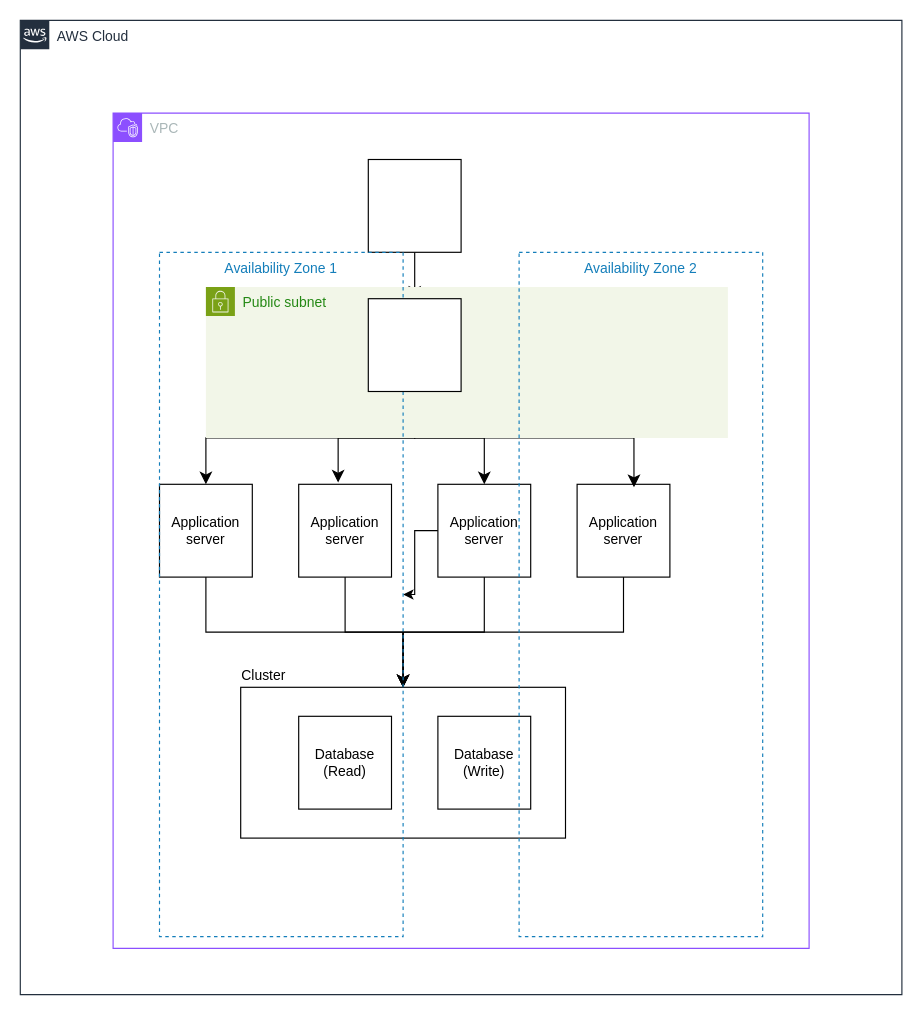
Image size: 922x1015. Some labels were removed from this diagram. Each missing label, with the centre of its shape:
Internet Gateway: the point at 414,205
load balancer: the point at 414,345
